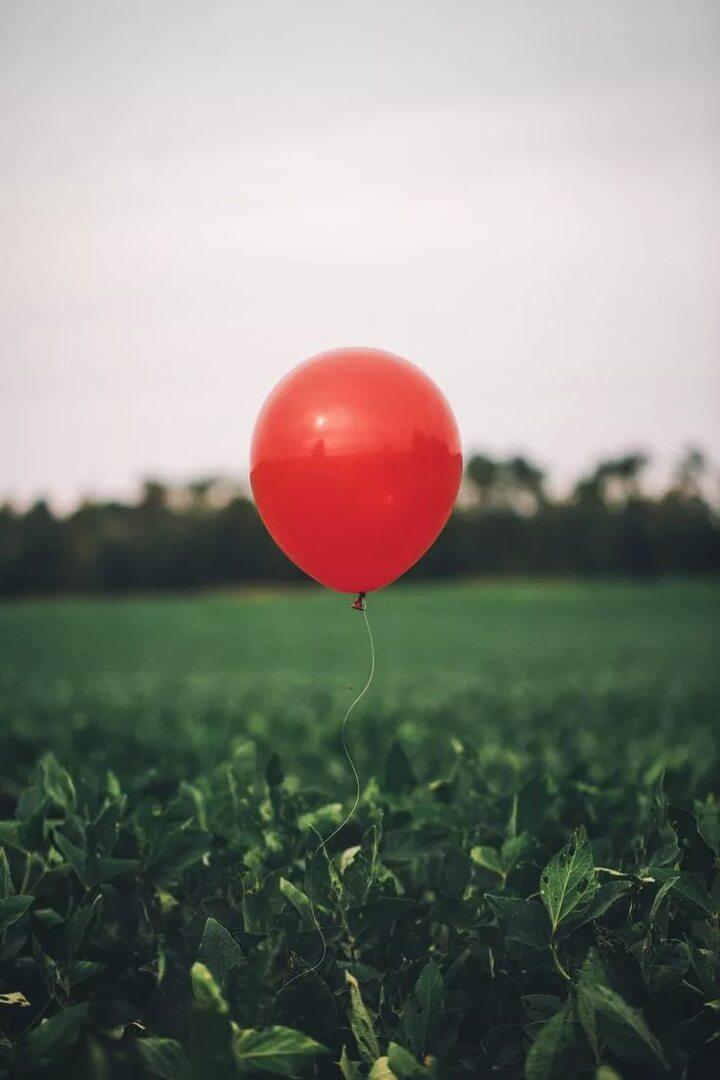red: (236, 343, 473, 625)
